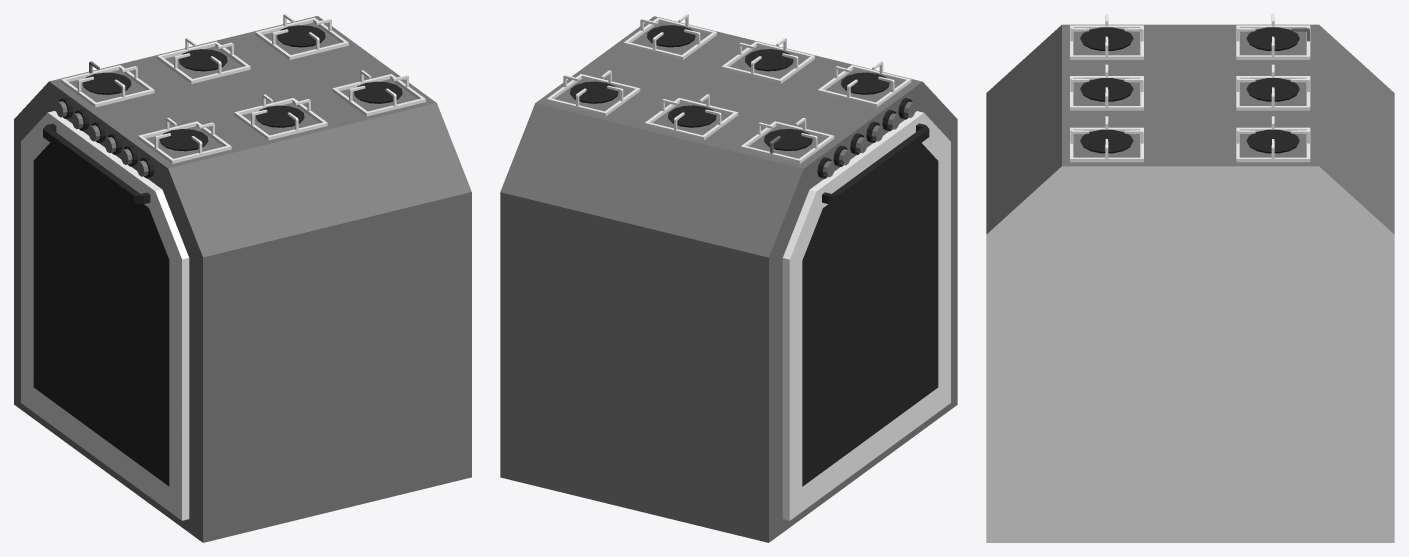
Rendered from Gas Cooker_2.fbx.
The picture shows the model from 3 angles, left to right: view 1: azimuth 30°, elevation 25°; view 2: azimuth 150°, elevation 25°; view 3: azimuth 270°, elevation 25°; orthographic projection. The views are drawn at different scales.
Parts seen in each view (by area): view 1: Gas Cooker_2, Gas Cooker_2 Door; view 2: Gas Cooker_2, Gas Cooker_2 Door; view 3: Gas Cooker_2.
Part boxes in pixels (bbox=[...]): Gas Cooker_2: bbox=[14, 14, 471, 542]; Gas Cooker_2 Door: bbox=[21, 111, 189, 520]; Gas Cooker_2: bbox=[500, 14, 957, 542]; Gas Cooker_2 Door: bbox=[782, 111, 950, 520]; Gas Cooker_2: bbox=[986, 14, 1394, 542].
Bounding box in the file's own units: 0.7064 × 0.8477 × 0.7996.
